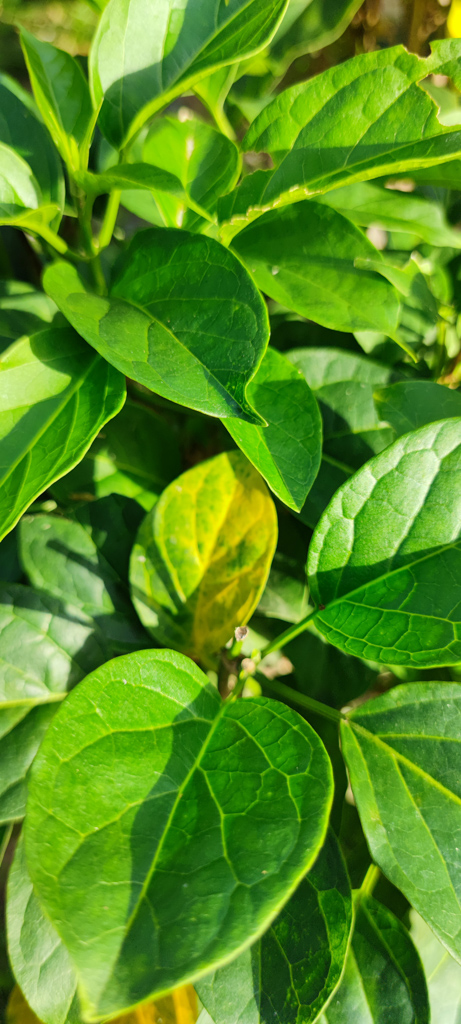Pepper yellow leaf: (169, 449, 298, 667)
